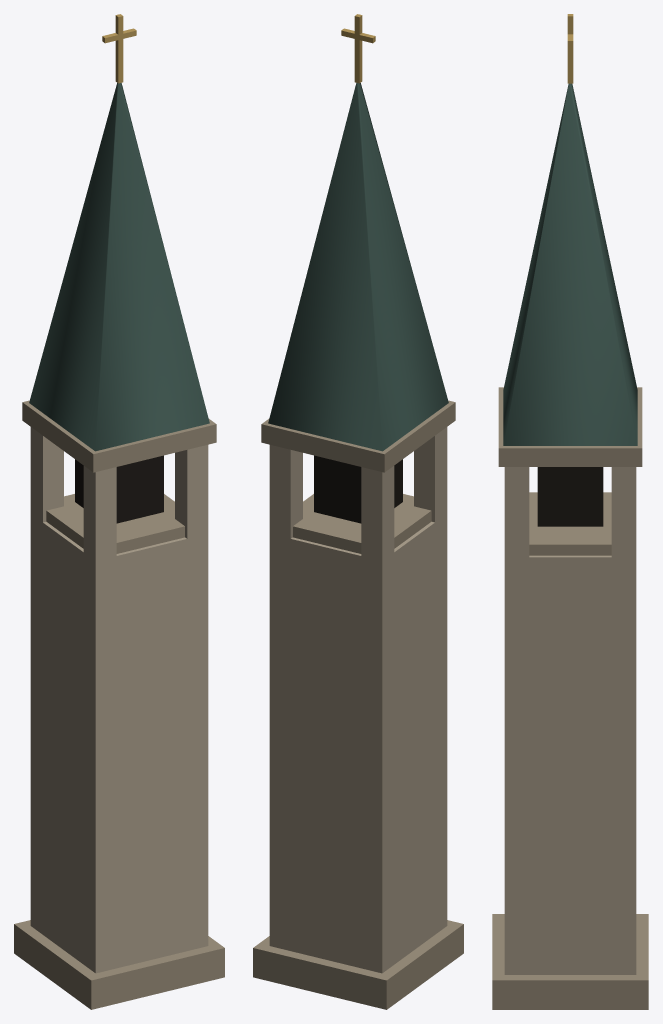
File: steeple-tower-lod1.glb
3 renders of one model, left to right at view 1: azimuth 30°, elevation 25°; view 2: azimuth 150°, elevation 25°; view 3: azimuth 270°, elevation 25°, orthographic.
Parts seen in each view (by area): view 1: shaft, spire, cross; view 2: shaft, spire, cross; view 3: shaft, spire, cross.
Part boxes in pixels (x1=…): shaft: x1=14, y1=400, x2=224, y2=1009; spire: x1=29, y1=83, x2=209, y2=451; cross: x1=102, y1=14, x2=136, y2=83; shaft: x1=253, y1=400, x2=463, y2=1009; spire: x1=268, y1=83, x2=448, y2=451; cross: x1=341, y1=14, x2=375, y2=83; shaft: x1=492, y1=387, x2=648, y2=1009; spire: x1=503, y1=83, x2=637, y2=445; cross: x1=567, y1=14, x2=573, y2=83.
Bounding box in the file's own units: 3.8 × 25.8 × 3.8.
